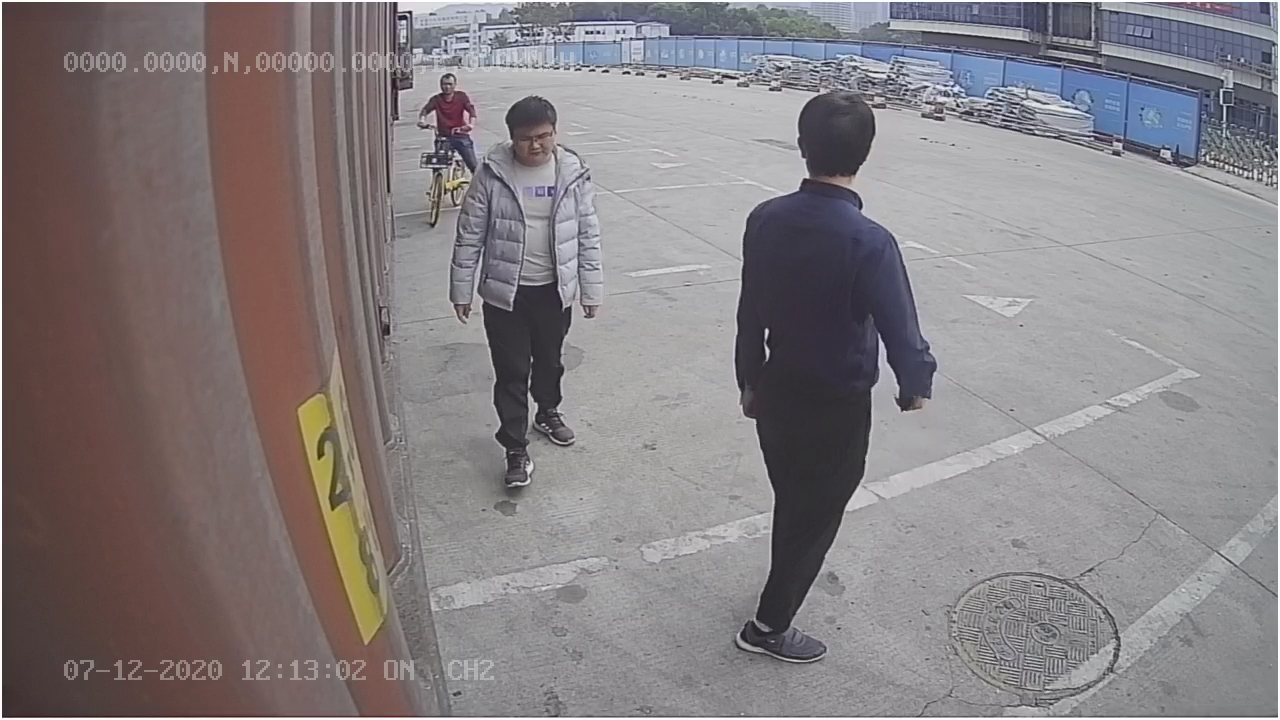person: (731, 71, 936, 663)
